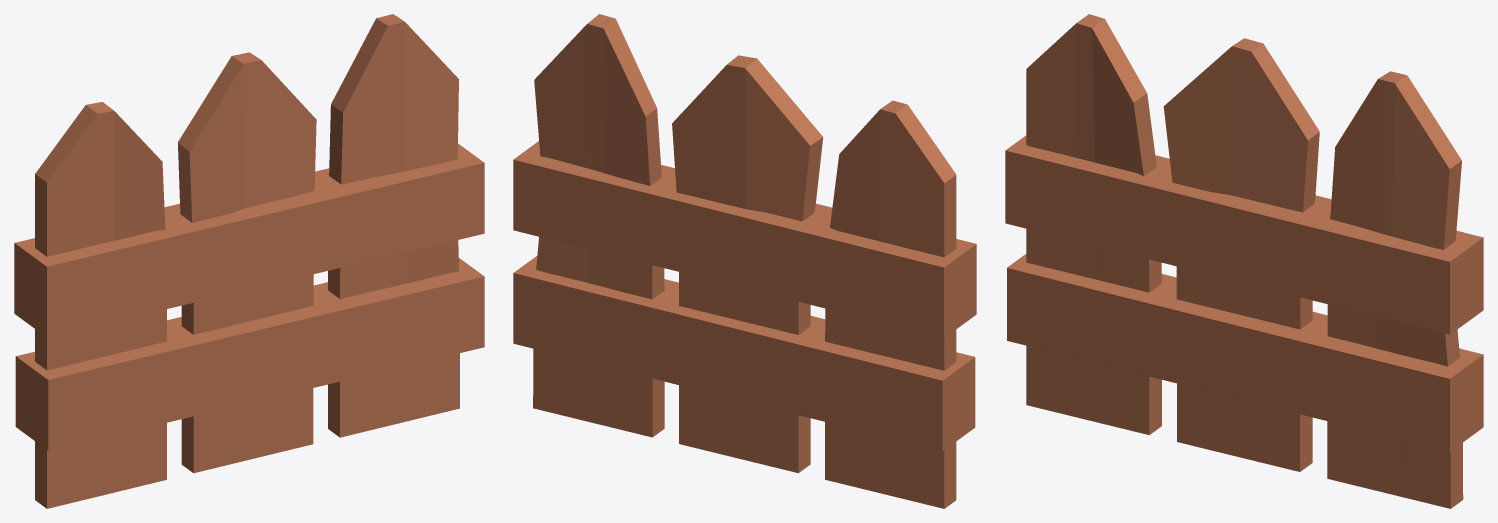
File: hedge-type-004.obj
3 renders of one model, left to right at view 1: azimuth 30°, elevation 25°; view 2: azimuth 150°, elevation 25°; view 3: azimuth 330°, elevation 25°, orthographic. The views are drawn at different scales.
Visible parts, largest first — view 1: hedge-type-002; view 2: hedge-type-002; view 3: hedge-type-002.
Part boxes in pixels (left/top/right/bottom): hedge-type-002: left=14, top=14, right=484, bottom=508; hedge-type-002: left=513, top=14, right=976, bottom=508; hedge-type-002: left=1005, top=14, right=1483, bottom=508.
Bounding box in the file's own units: 0.8051 × 0.7079 × 0.1139.
